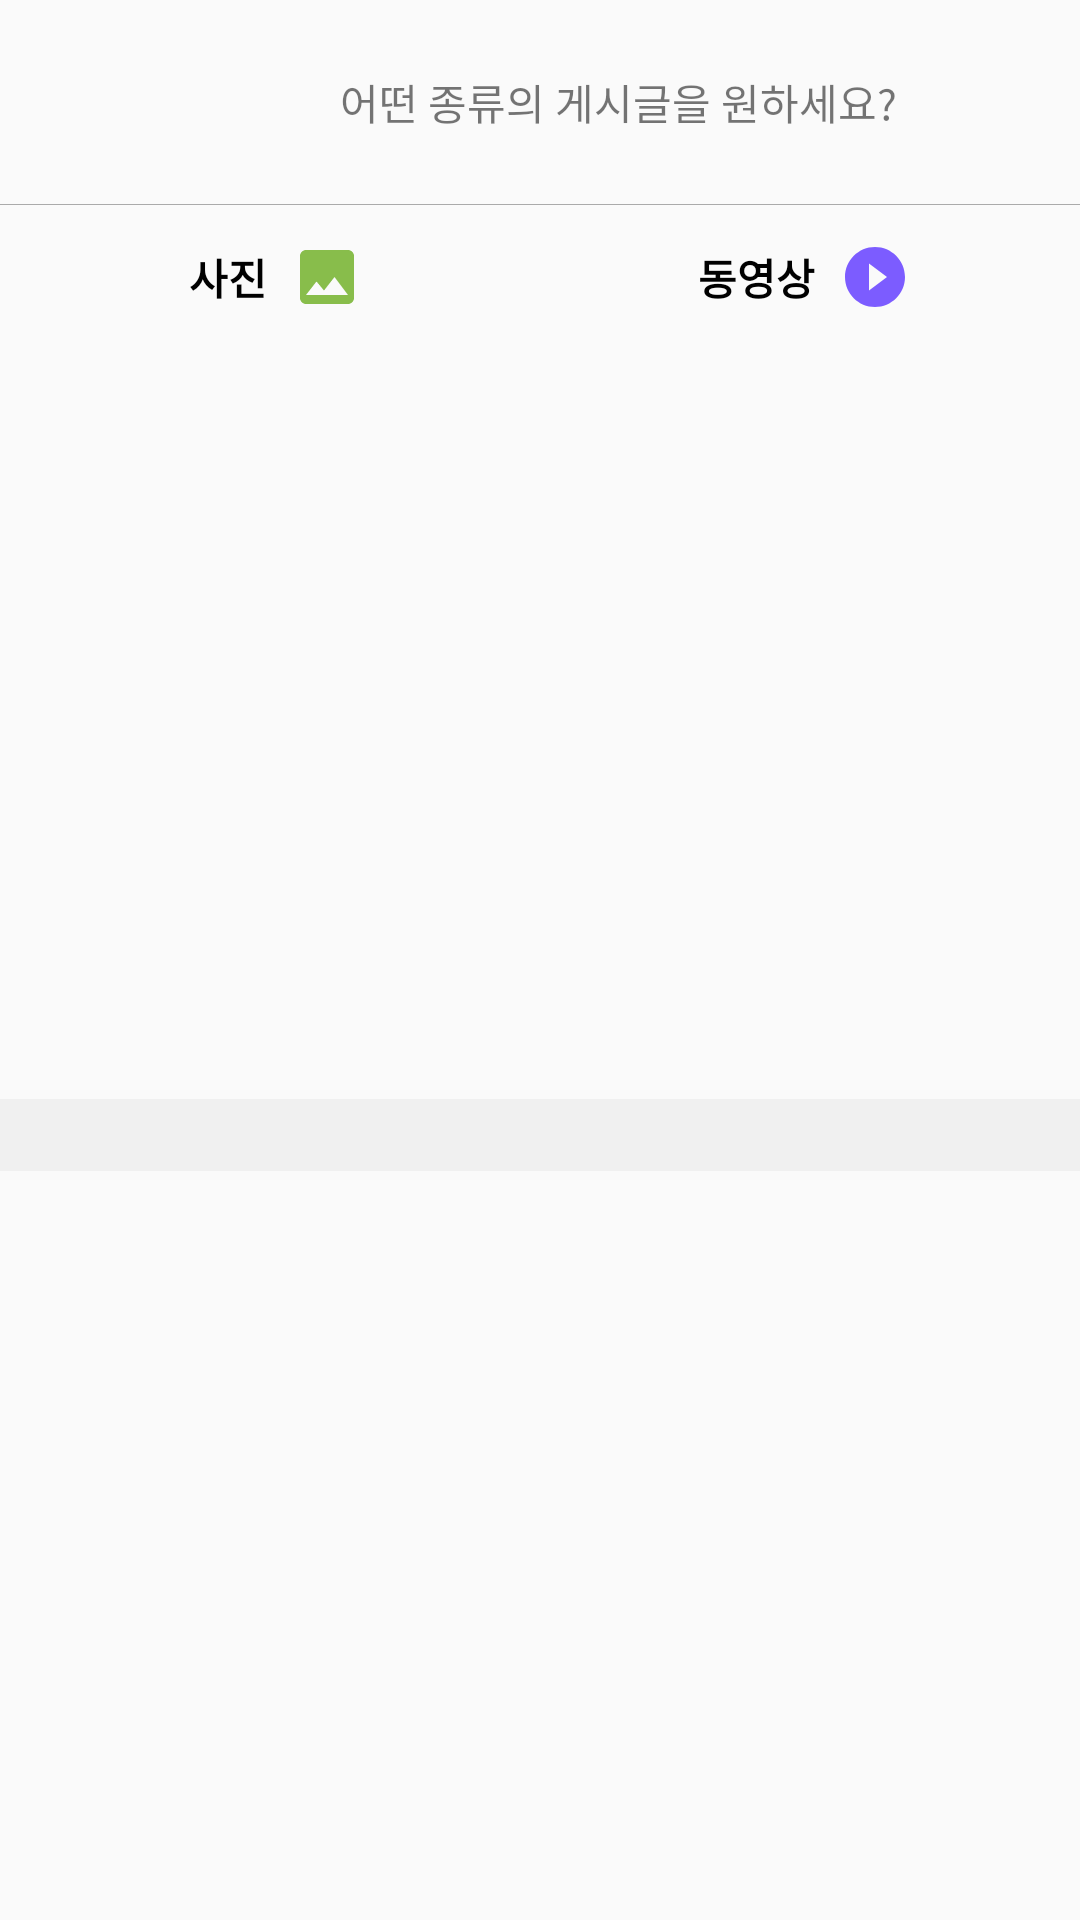

Icons on this 1080px x 1920px Android screen, each with its box as (left=x1, top=y1, right=x2, bottom=y2):
play circle: (left=845, top=247, right=905, bottom=307)
